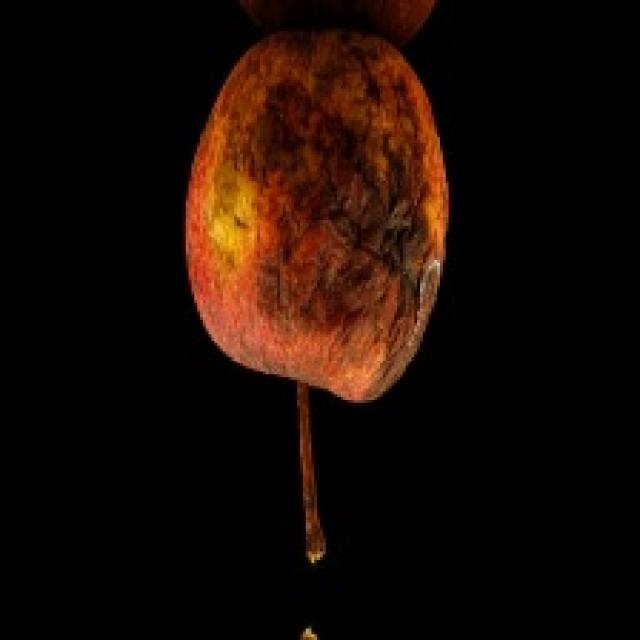rotten_apple: (190, 36, 444, 395)
